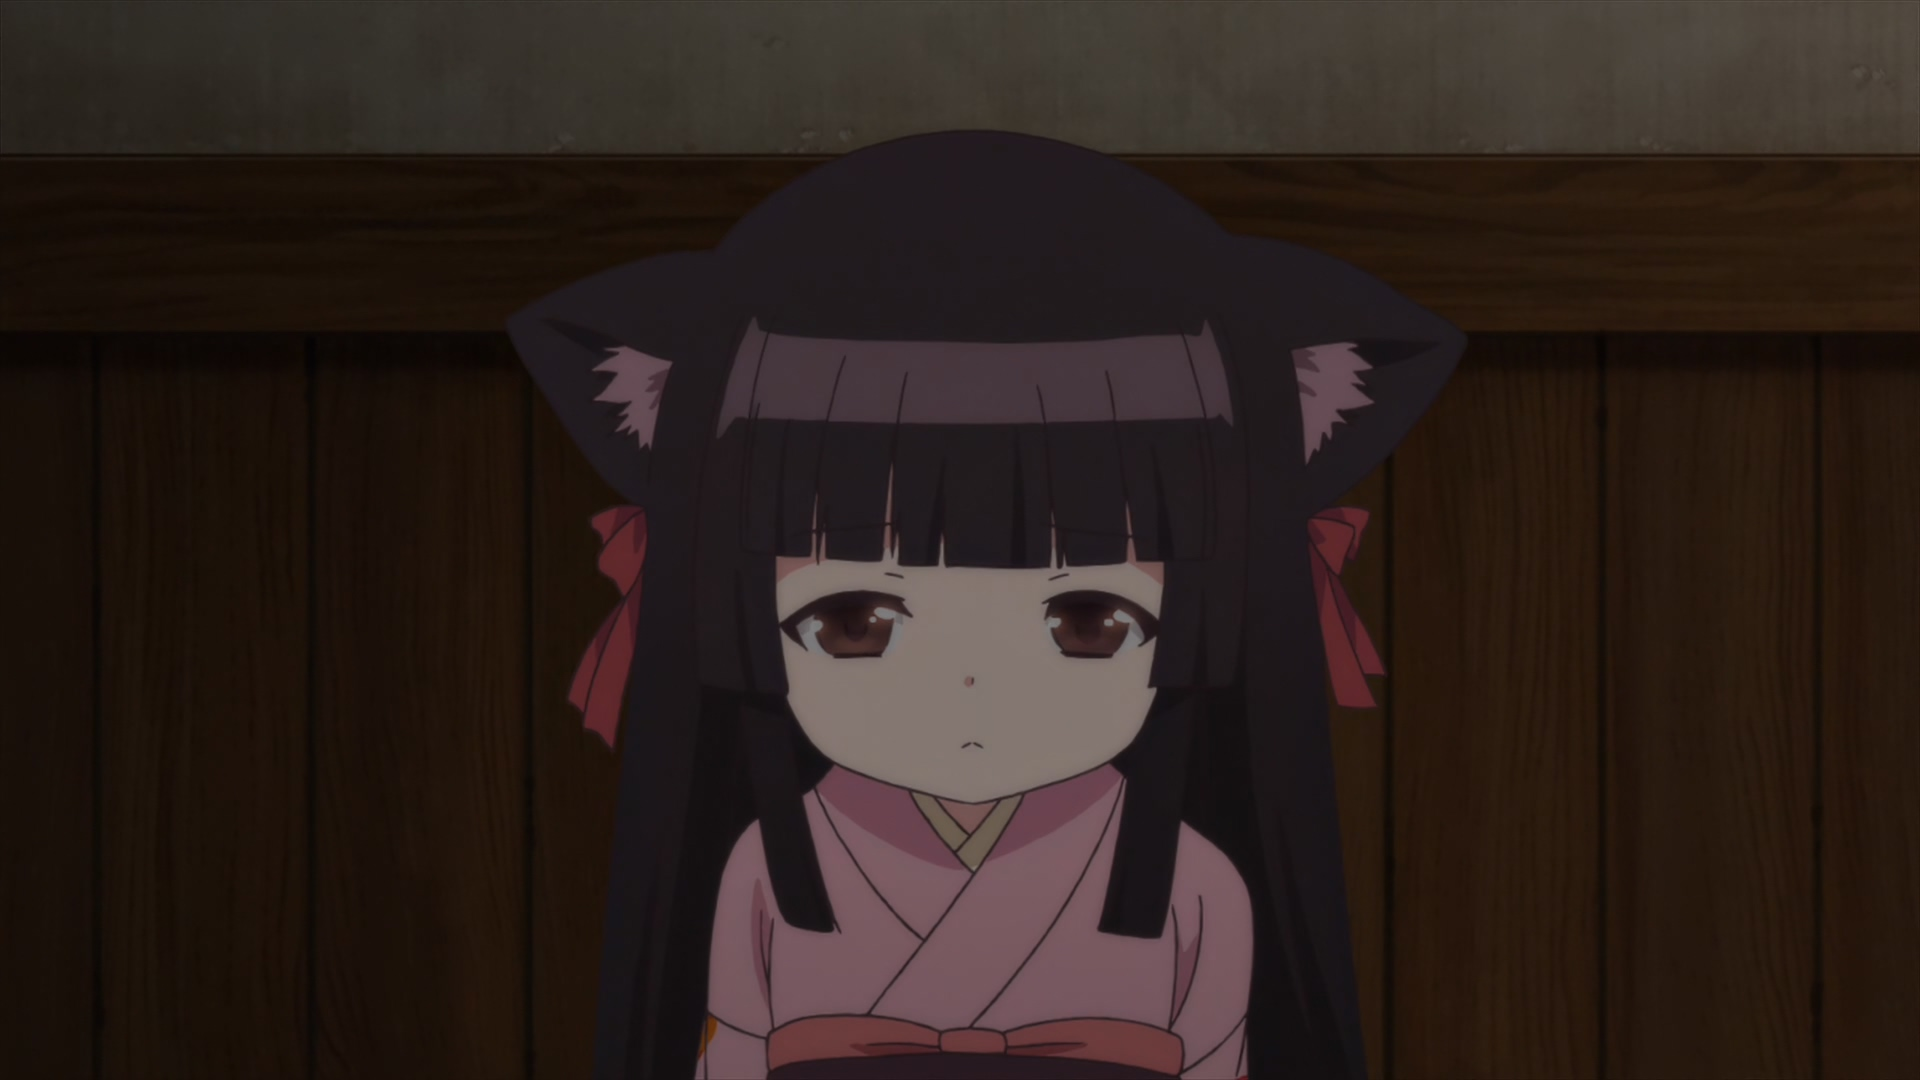樱: (504, 131, 1466, 1080)
